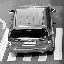motor: (19, 3, 52, 57)
